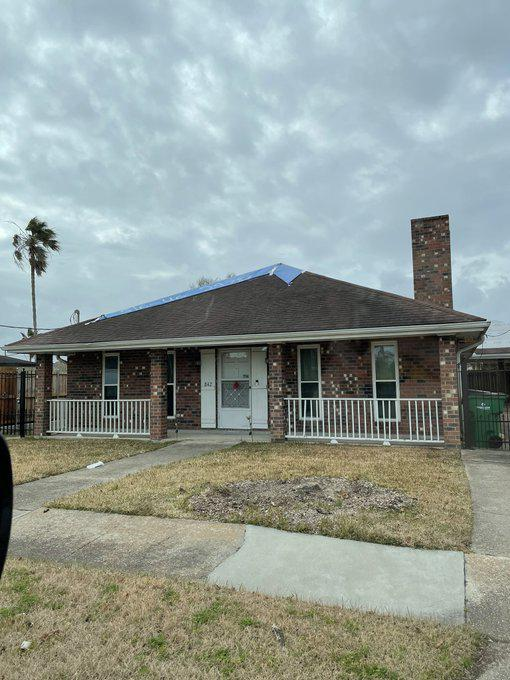minor: (0, 192, 496, 454)
